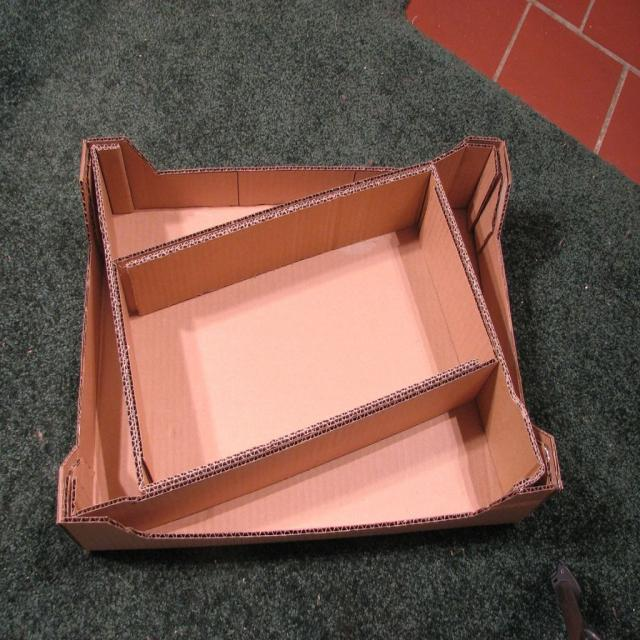Box: (57, 141, 566, 551)
